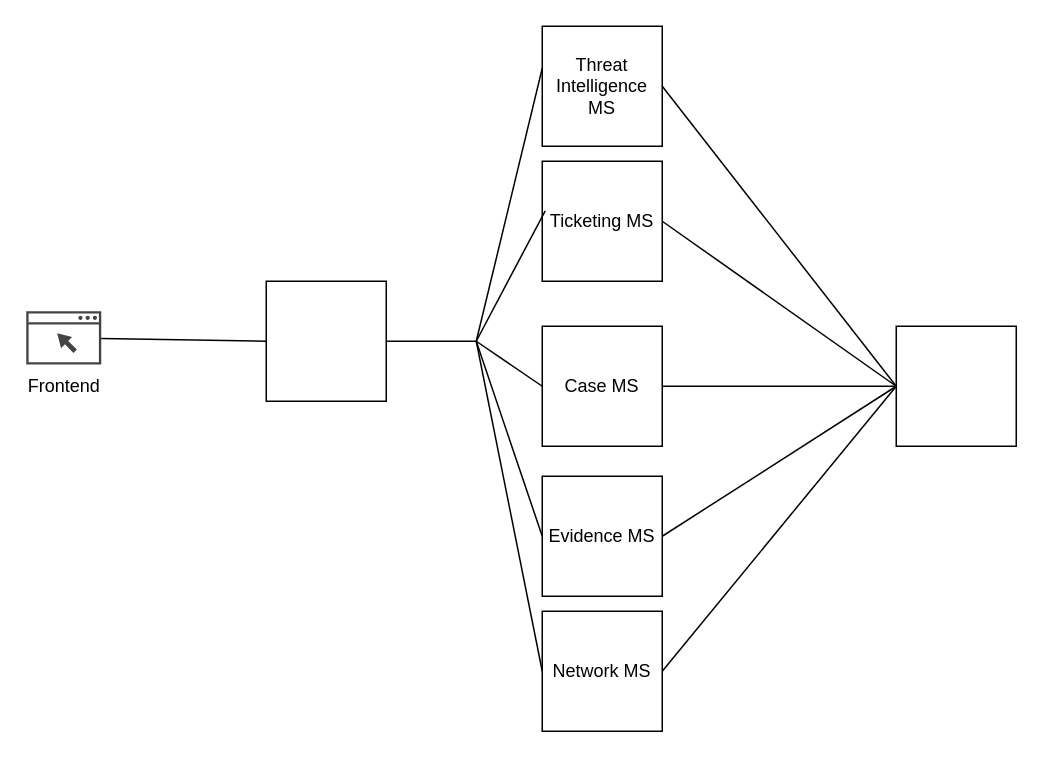
This 1043x758 diagram has some shape labels left out. Here are the shapes that lost their labels. From the top down, the centre of each, then its label:
At pixel 325 340: "API Gateway".
At pixel 955 385: "Service Registry".
